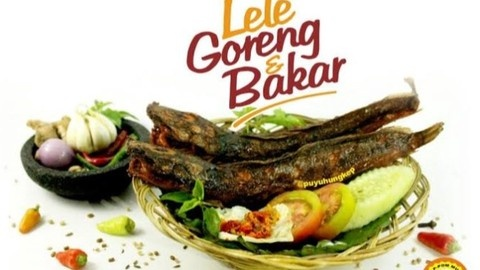pecel_lele: (139, 94, 438, 160)
